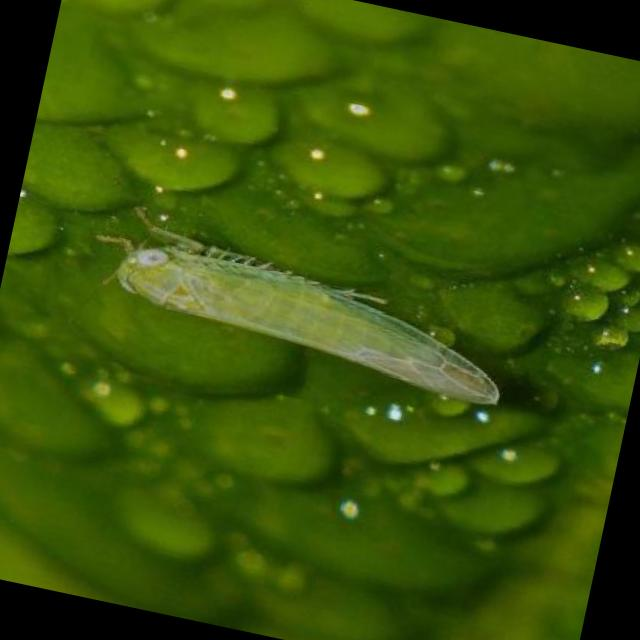green-leafhopper: (97, 218, 523, 409)
